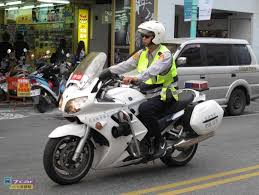helmet: (134, 20, 166, 41)
